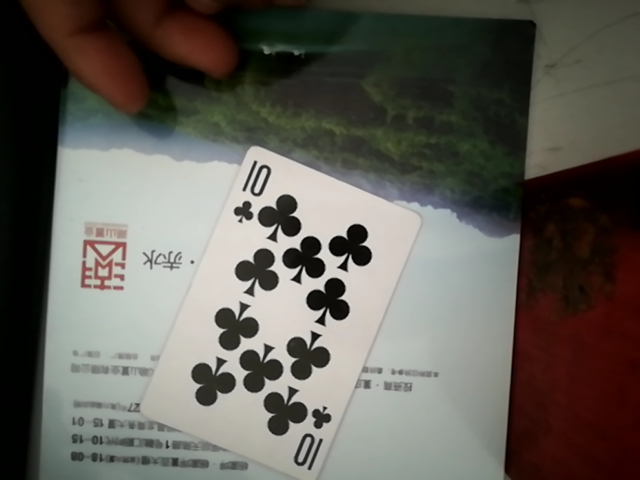mh 10: (158, 140, 415, 464)
